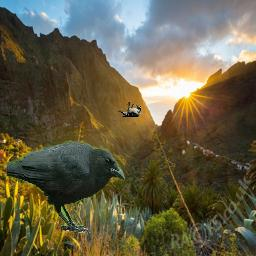Crow: (7, 142, 126, 235)
Woodpecker: (119, 103, 142, 118)
